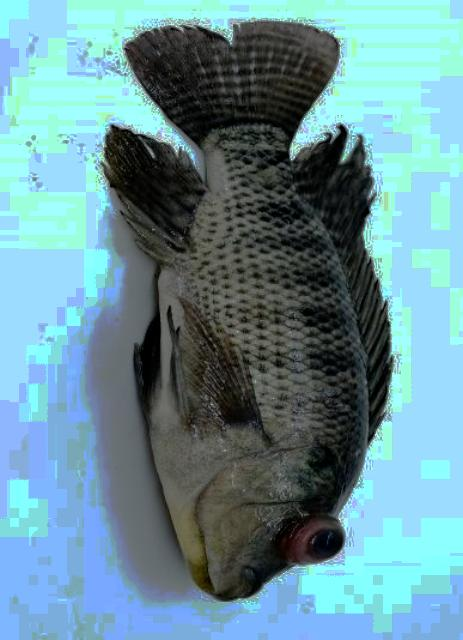Streptococcus: (105, 23, 391, 599)
